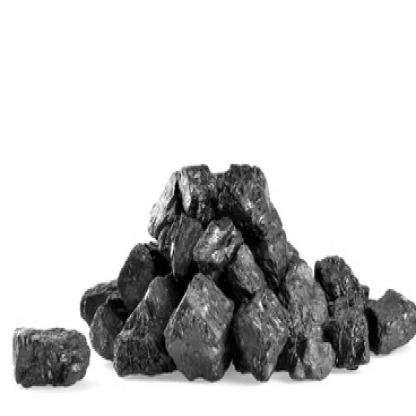Sedimentary_coal: (225, 152, 306, 270), (164, 266, 235, 374), (107, 273, 172, 379), (9, 319, 89, 398), (272, 252, 334, 330), (365, 278, 415, 362), (178, 130, 217, 218)
